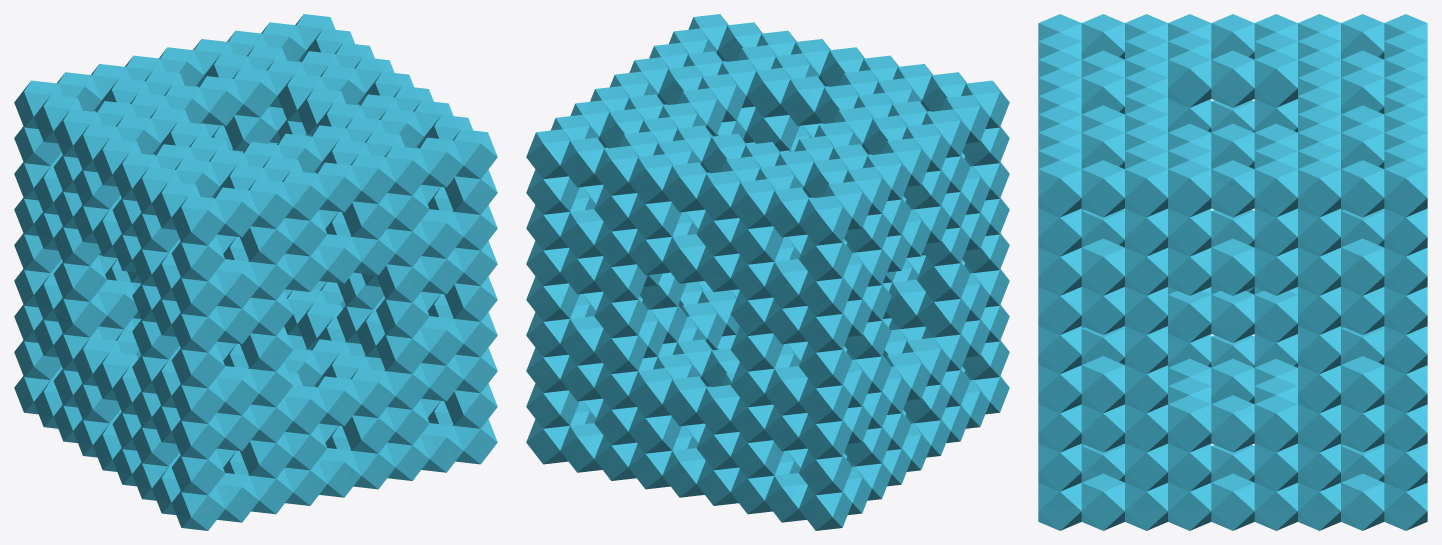
The model's file is fractalcuboctahedron1-2.glb.
3 renders of one model, left to right at view 1: azimuth 30°, elevation 25°; view 2: azimuth 150°, elevation 25°; view 3: azimuth 270°, elevation 25°, orthographic. The views are drawn at different scales.
Size of the model in its own units: 7.19 by 7.19 by 7.19.
